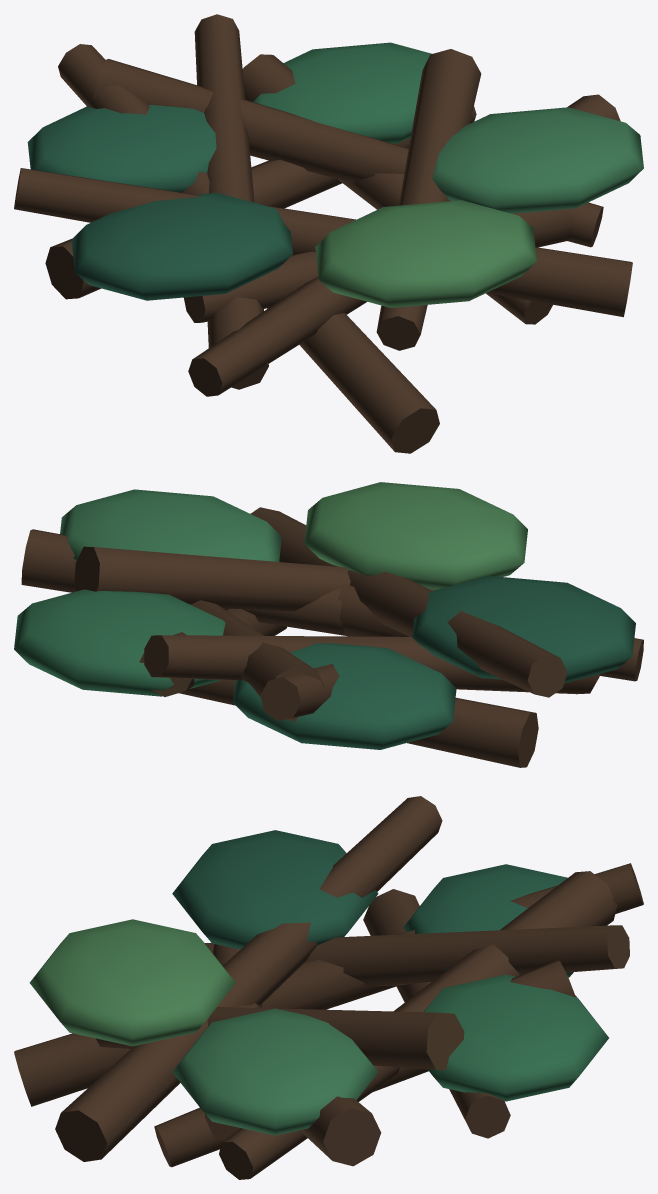
The model's file is brush_pile.glb.
The picture shows the model from 3 angles, top to bottom: view 1: azimuth 30°, elevation 25°; view 2: azimuth 150°, elevation 25°; view 3: azimuth 270°, elevation 25°; orthographic projection. The views are drawn at different scales.
Parts seen in each view (by area): view 1: brush_pile; view 2: brush_pile; view 3: brush_pile.
Part boxes in pixels (x1,y1,x2,y2): brush_pile: (14,14,643,453); brush_pile: (14,482,643,767); brush_pile: (14,796,643,1179).
Size of the model in its own units: 1.33 by 0.4779 by 1.22.
